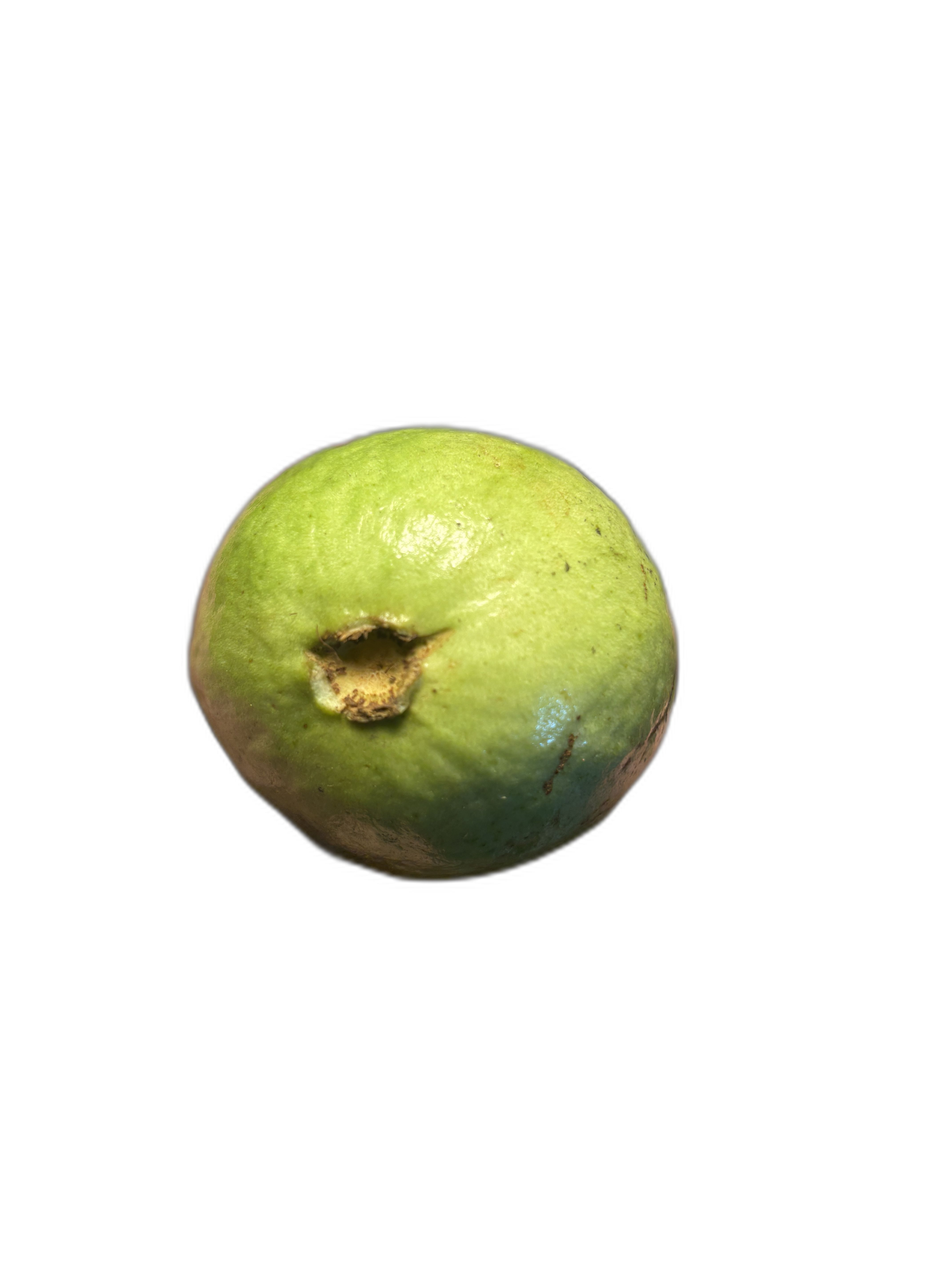guava: (12, 43, 781, 1164)
